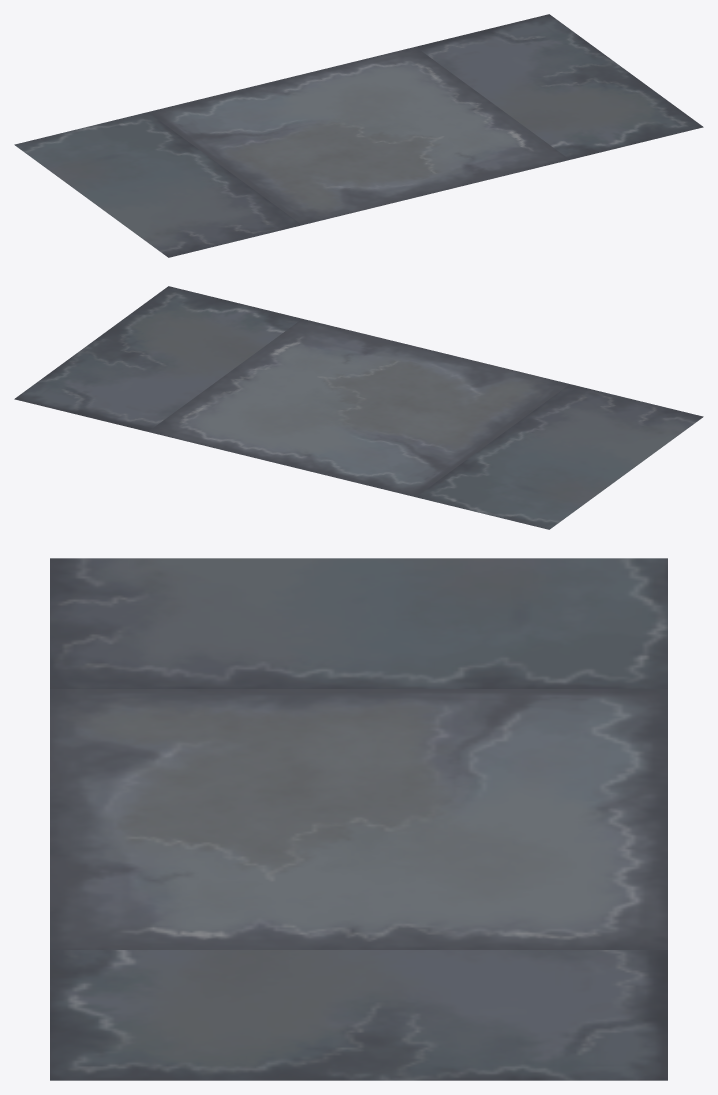
File: Castle Ground X Mix 1x2.fbx
3 renders of one model, top to bottom at view 1: azimuth 30°, elevation 25°; view 2: azimuth 150°, elevation 25°; view 3: azimuth 270°, elevation 25°, orthographic. The views are drawn at different scales.
Visible parts, largest first — view 1: Castle Ground X Mix 1x2; view 2: Castle Ground X Mix 1x2; view 3: Castle Ground X Mix 1x2.
Part boxes in pixels (x1,y1,x2,y2): Castle Ground X Mix 1x2: (14,14,703,257); Castle Ground X Mix 1x2: (14,286,703,529); Castle Ground X Mix 1x2: (50,558,667,1080).
Size of the model in its own units: 1.5 by 2.87e-07 by 0.75.
